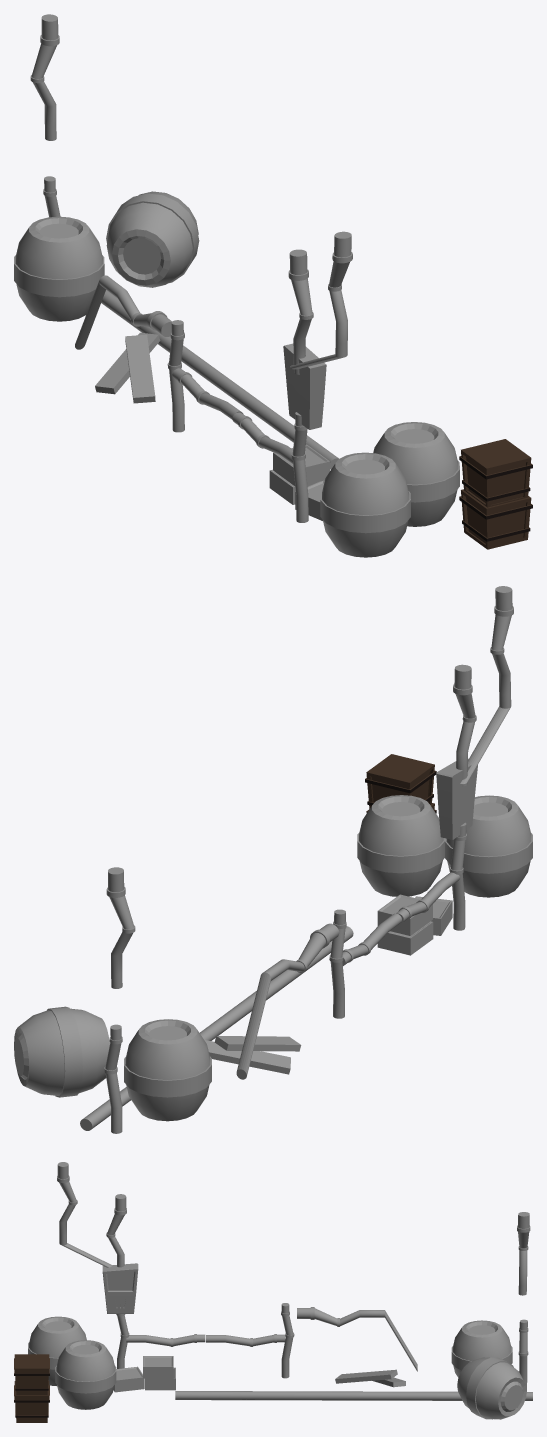
File: MSG_BG_Basement_D_Move_Object_02.FBX
3 renders of one model, top to bottom at view 1: azimuth 30°, elevation 25°; view 2: azimuth 150°, elevation 25°; view 3: azimuth 270°, elevation 25°, orthographic. The views are drawn at different scales.
Visible parts, largest first — view 1: Cylinder114, Cylinder083, Cylinder110, Cylinder115, Box052, Cylinder082, Box044, Box066, Cylinder118, Cylinder119, Cylinder106, Cylinder116 (+7 smaller); view 2: Cylinder083, Cylinder115, Cylinder110, Cylinder114, Cylinder118, Box052, Cylinder119, Box066, Cylinder082, Cylinder106, Cylinder116, Cylinder107 (+9 smaller); view 3: Cylinder115, Cylinder110, Cylinder082, Cylinder083, Cylinder114, Box066, Box052, Cylinder119, Cylinder118, Box044, Cylinder106, Cylinder116 (+9 smaller).
Boxes of the visible parts, x1=… form: Cylinder114: x1=320, y1=452, x2=410, y2=557; Cylinder083: x1=14, y1=216, x2=104, y2=321; Cylinder110: x1=106, y1=191, x2=199, y2=287; Cylinder115: x1=373, y1=422, x2=459, y2=526; Box052: x1=459, y1=439, x2=532, y2=507; Cylinder082: x1=101, y1=290, x2=338, y2=469; Box044: x1=459, y1=489, x2=532, y2=549; Box066: x1=283, y1=343, x2=326, y2=429; Cylinder118: x1=290, y1=231, x2=352, y2=369; Cylinder119: x1=75, y1=275, x2=171, y2=349; Cylinder106: x1=30, y1=14, x2=59, y2=140; Cylinder116: x1=288, y1=249, x2=313, y2=374; Cylinder083: x1=124, y1=1019, x2=211, y2=1121; Cylinder115: x1=357, y1=795, x2=444, y2=896; Cylinder110: x1=14, y1=1006, x2=109, y2=1097; Cylinder114: x1=445, y1=795, x2=532, y2=897; Cylinder118: x1=460, y1=586, x2=513, y2=783; Box052: x1=365, y1=754, x2=436, y2=808; Cylinder119: x1=236, y1=923, x2=339, y2=1079; Box066: x1=436, y1=758, x2=477, y2=839; Cylinder082: x1=80, y1=926, x2=353, y2=1130; Cylinder106: x1=106, y1=867, x2=135, y2=988; Cylinder116: x1=453, y1=664, x2=476, y2=786; Cylinder107: x1=104, y1=1024, x2=122, y2=1133; Cylinder115: x1=55, y1=1340, x2=116, y2=1409; Cylinder110: x1=457, y1=1357, x2=526, y2=1419; Cylinder082: x1=175, y1=1391, x2=532, y2=1400; Cylinder083: x1=451, y1=1320, x2=512, y2=1377; Cylinder114: x1=28, y1=1316, x2=86, y2=1385; Box066: x1=102, y1=1263, x2=138, y2=1313; Box052: x1=14, y1=1354, x2=49, y2=1394; Cylinder119: x1=297, y1=1307, x2=417, y2=1371; Cylinder118: x1=57, y1=1162, x2=111, y2=1267; Box044: x1=14, y1=1381, x2=49, y2=1422; Cylinder106: x1=517, y1=1212, x2=530, y2=1295; Cylinder116: x1=106, y1=1194, x2=126, y2=1267.
Size of what is drawn, in the model's own units: 288 by 451 by 982.
